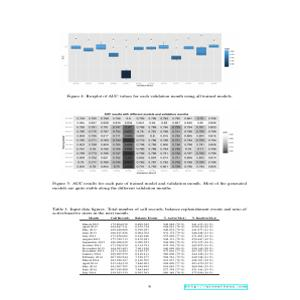diagram: (53, 30, 238, 90)
table: (61, 110, 222, 172), (75, 215, 224, 277)
text: (49, 177, 251, 218)
